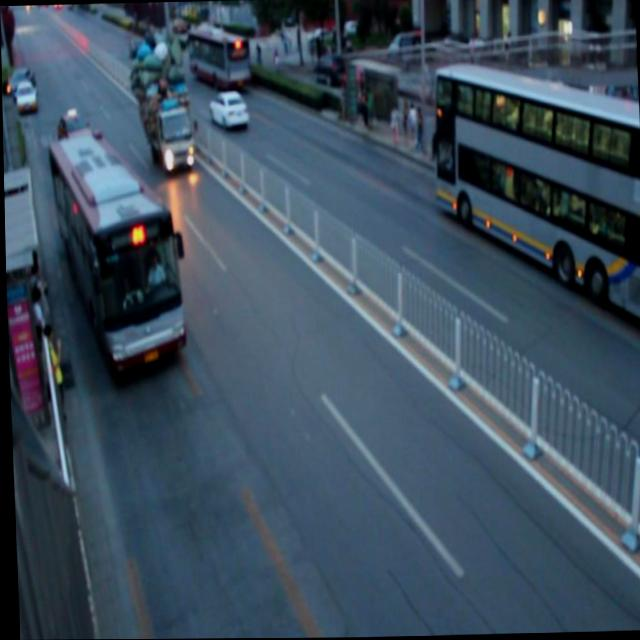bus: (134, 29, 193, 173)
car: (56, 110, 96, 155), (209, 90, 247, 132)
van: (431, 63, 640, 328), (47, 128, 185, 378), (187, 27, 251, 89)
